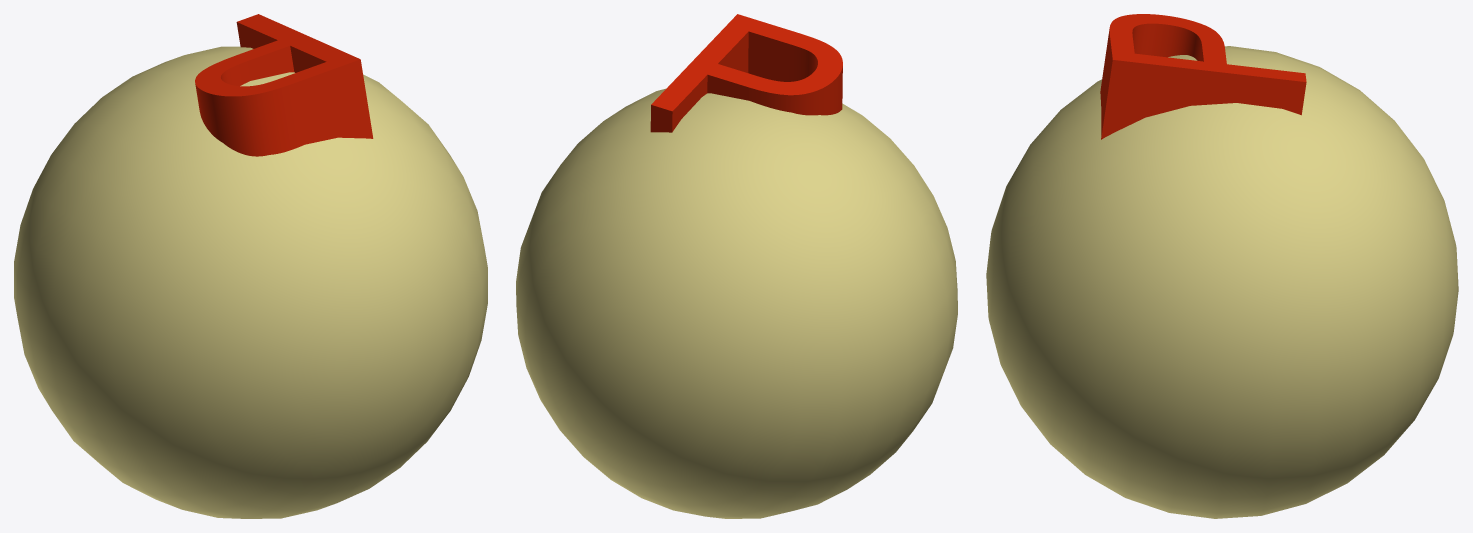
3 renders of one model, left to right at view 1: azimuth 30°, elevation 25°; view 2: azimuth 150°, elevation 25°; view 3: azimuth 270°, elevation 25°, orthographic. The views are drawn at different scales.
Visible parts, largest first — view 1: P; view 2: P; view 3: P.
Part boxes in pixels (left/top/right/bottom): P: left=14, top=14, right=487, bottom=518; P: left=516, top=14, right=957, bottom=518; P: left=986, top=14, right=1458, bottom=518.
Bounding box in the file's own units: 38.64 × 41.81 × 38.67.
